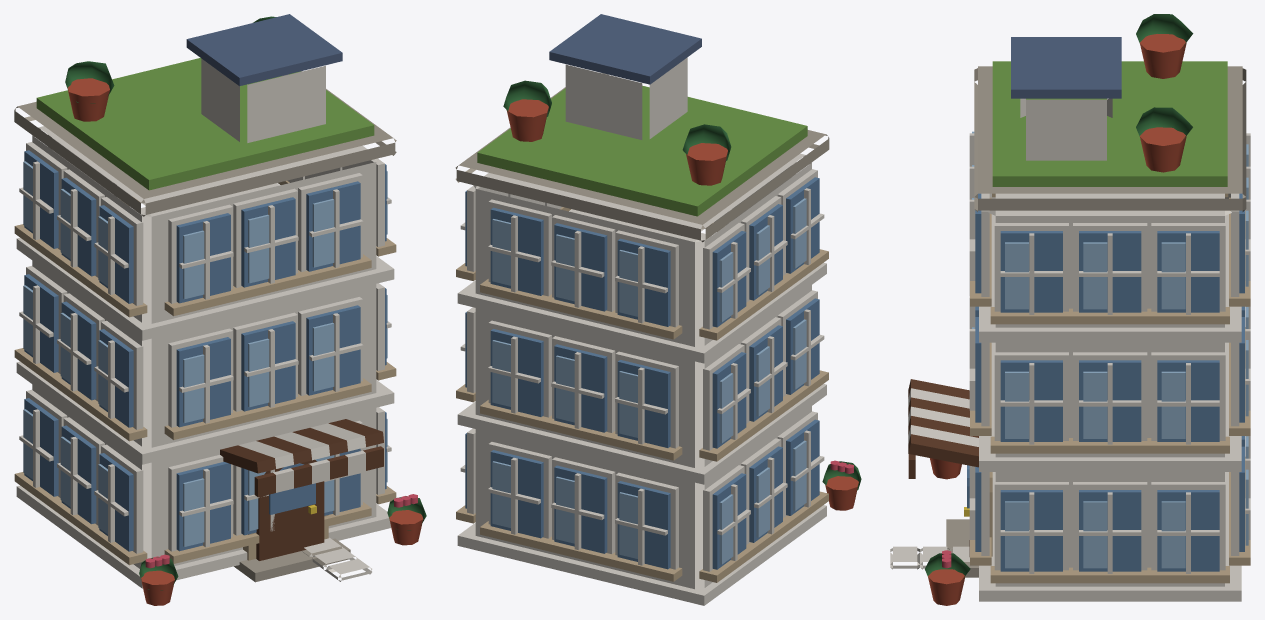
The model's file is office-a.glb.
3 renders of one model, left to right at view 1: azimuth 30°, elevation 25°; view 2: azimuth 150°, elevation 25°; view 3: azimuth 270°, elevation 25°, orthographic. The views are drawn at different scales.
Visible parts, largest first — view 1: office-a; view 2: office-a; view 3: office-a.
Boxes of the visible parts, bbox=[...] form: office-a: bbox=[14, 14, 426, 605]; office-a: bbox=[455, 14, 861, 605]; office-a: bbox=[890, 14, 1250, 605].
Size of the model in its own units: 0.8104 by 1.31 by 0.86.
